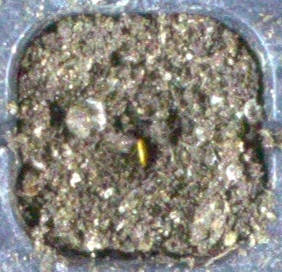pepper seed: (59, 53, 212, 220)
